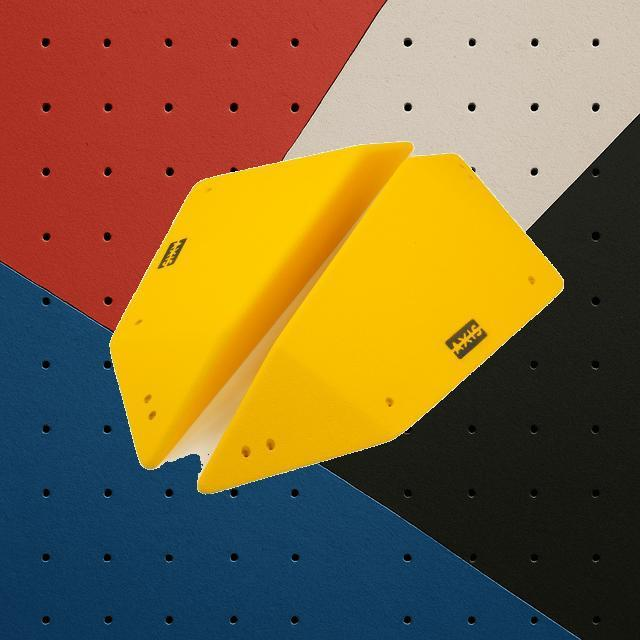Volume: (196, 151, 566, 495), (106, 142, 414, 472)
